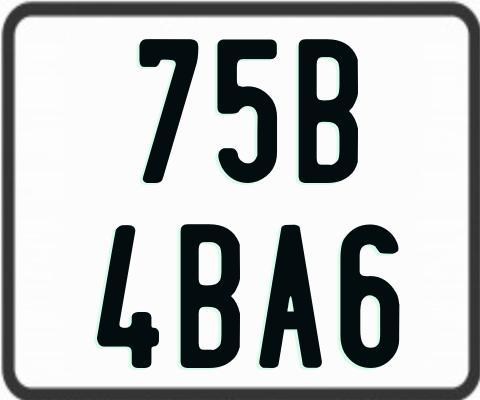4: (95, 222, 159, 369)
5: (215, 38, 276, 182)
6: (339, 225, 400, 368)
7: (137, 36, 202, 185)
A: (258, 224, 325, 368)
B: (180, 223, 241, 370), (299, 36, 361, 180)
